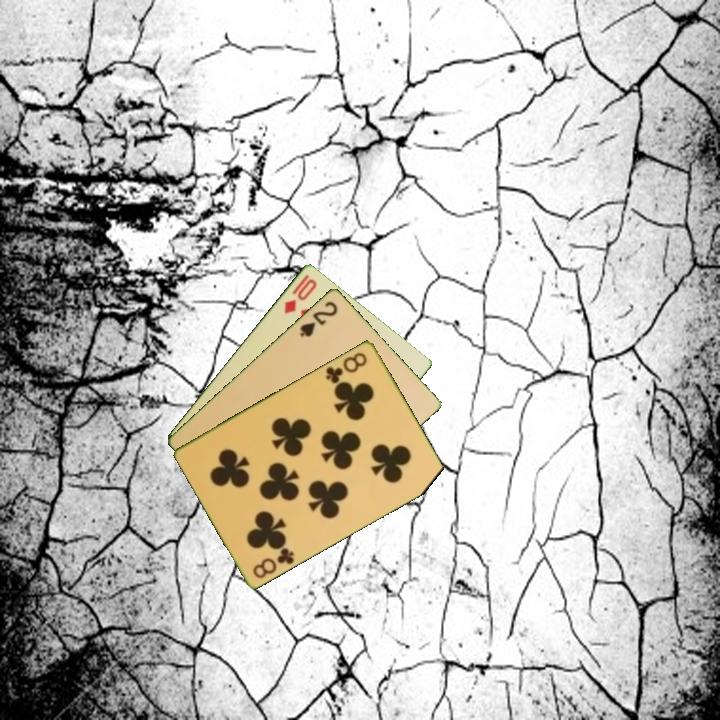10d: (280, 271, 320, 316)
2s: (296, 297, 340, 340)
8c: (322, 348, 370, 386), (249, 544, 297, 581)
